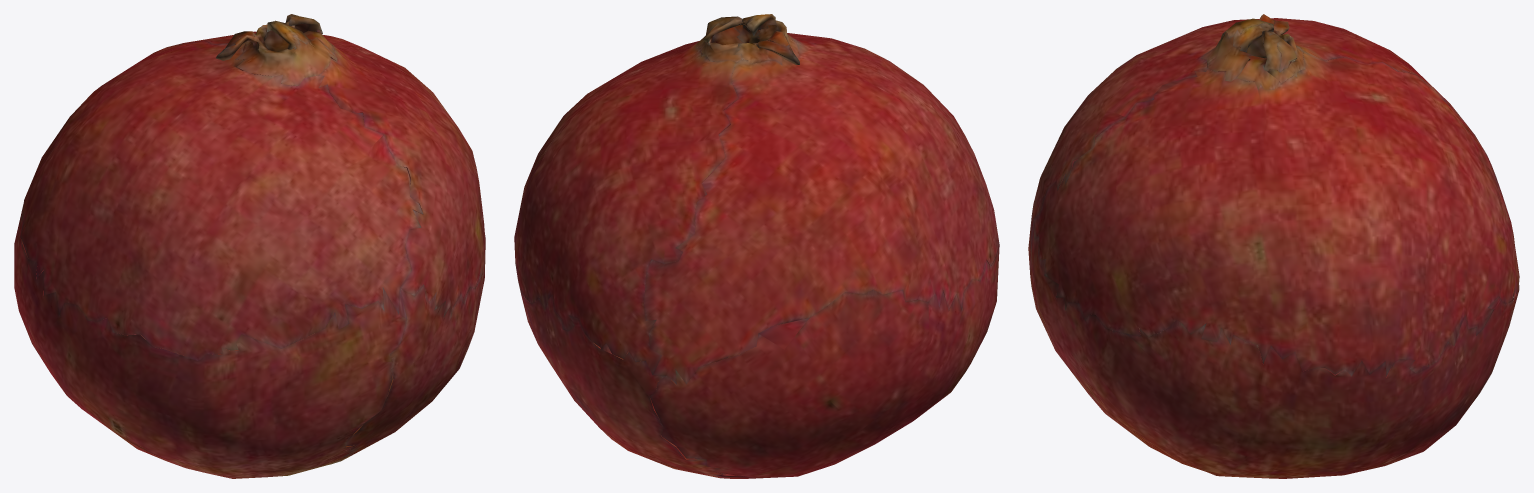
The model's file is food_pomegranate_01.glb.
The picture shows the model from 3 angles, left to right: view 1: azimuth 30°, elevation 25°; view 2: azimuth 150°, elevation 25°; view 3: azimuth 270°, elevation 25°; orthographic projection. The views are drawn at different scales.
Visible parts, largest first — view 1: food_pomegranate_01; view 2: food_pomegranate_01; view 3: food_pomegranate_01.
Boxes of the visible parts, x1,y1,x2,y2 form: food_pomegranate_01: (14,14,485,478); food_pomegranate_01: (514,14,999,478); food_pomegranate_01: (1028,14,1519,478).
Bounding box in the file's own units: 0.0894 × 0.09 × 0.0904.
Materials: 1 (1 with a texture image).
